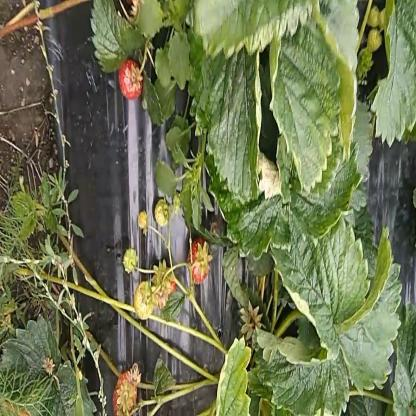ripe: (109, 370, 142, 416), (115, 59, 145, 103), (187, 238, 211, 290)
unripe: (131, 280, 155, 321), (122, 245, 139, 277), (152, 195, 170, 225), (367, 29, 382, 54), (366, 4, 379, 26), (137, 210, 150, 230)
